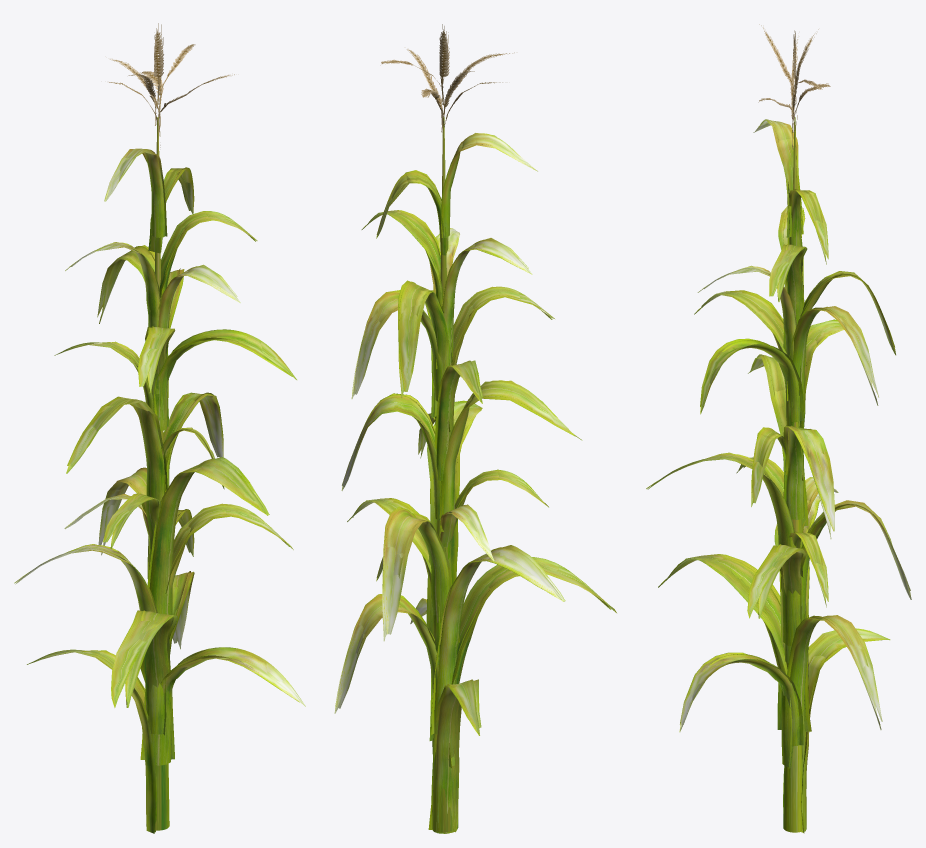
The model's file is CornPlant_lowPoly.fbx.
The picture shows the model from 3 angles, left to right: view 1: azimuth 30°, elevation 25°; view 2: azimuth 150°, elevation 25°; view 3: azimuth 270°, elevation 25°; orthographic projection.
Parts seen in each view (by area): view 1: Export_pCylinder3, Export_lowPoly_group5_polySurface12; view 2: Export_pCylinder3, Export_lowPoly_group5_polySurface12; view 3: Export_pCylinder3, Export_lowPoly_group5_polySurface12.
Boxes of the visible parts, x1=… form: Export_pCylinder3: x1=14, y1=117, x2=305, y2=833; Export_lowPoly_group5_polySurface12: x1=109, y1=23, x2=234, y2=147; Export_pCylinder3: x1=334, y1=117, x2=616, y2=833; Export_lowPoly_group5_polySurface12: x1=381, y1=24, x2=514, y2=132; Export_pCylinder3: x1=646, y1=117, x2=911, y2=833; Export_lowPoly_group5_polySurface12: x1=758, y1=24, x2=830, y2=149.
Bounding box in the file's own units: 8.53 × 26.91 × 7.94.
